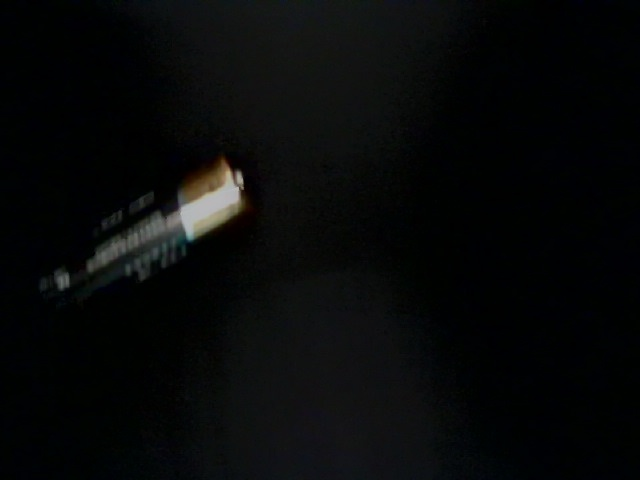QTLJ: (520, 283, 640, 476)
